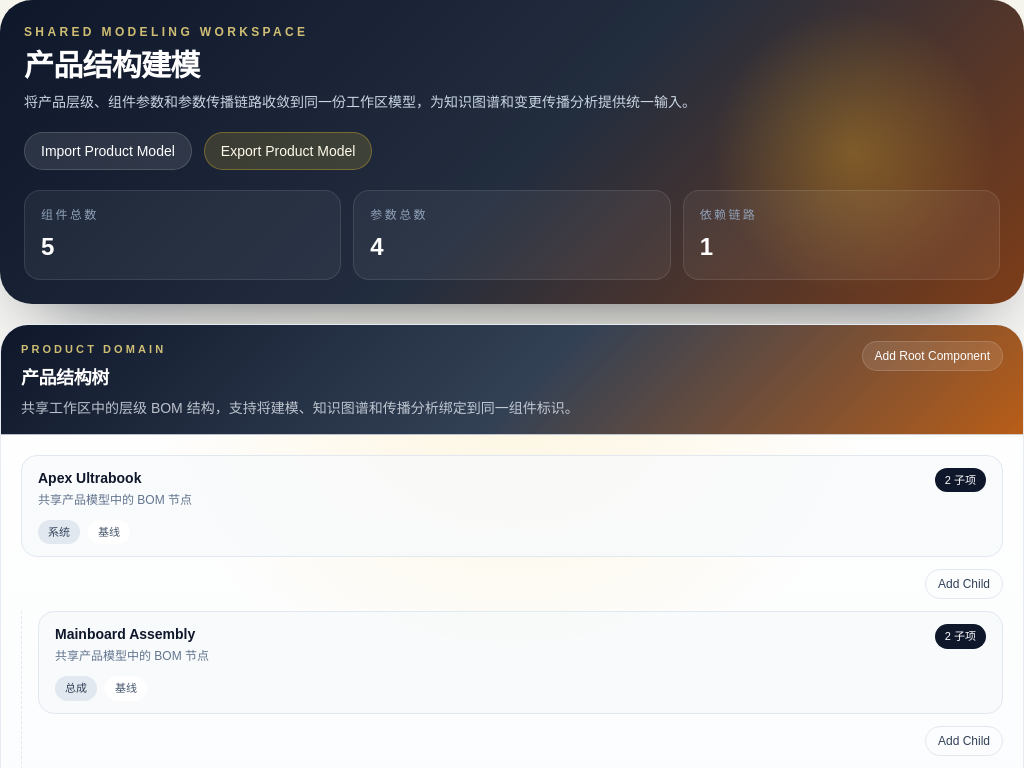
it: ProductModelingPage › creates a root component from the BOM panel
Click the button "Add Root Component" at {"x": 932, "y": 356}, box [862,341,1003,371]
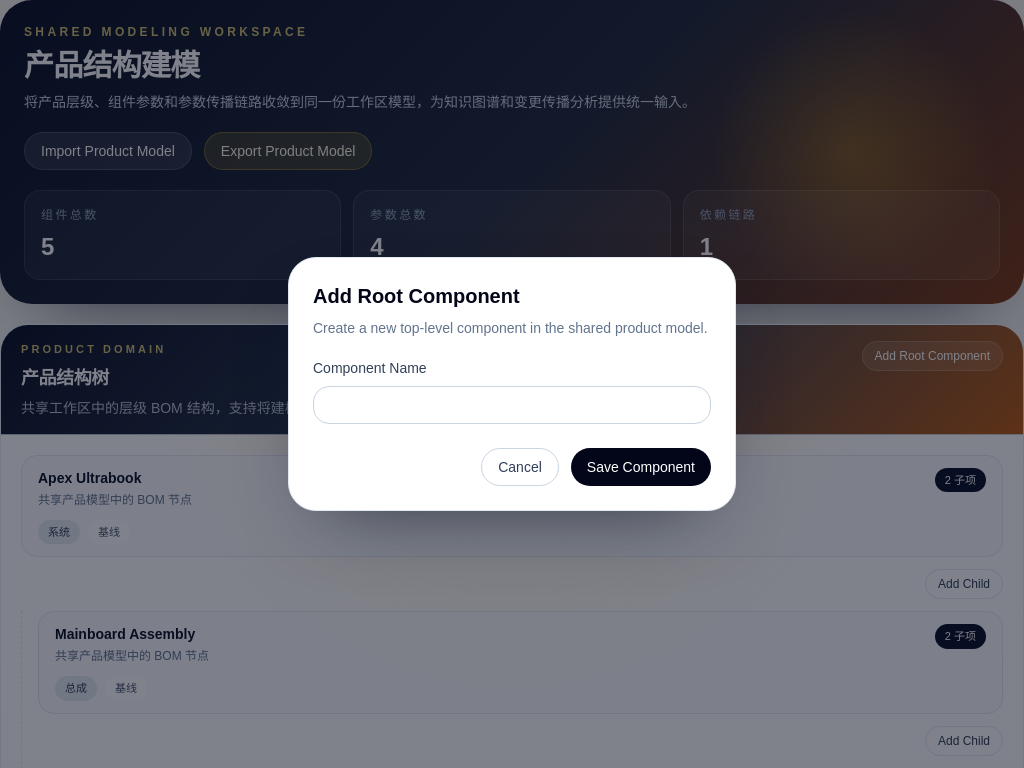
Type "Thermal Control System" into the field labelled "Component Name" at {"x": 512, "y": 405}, box [313,386,711,424]
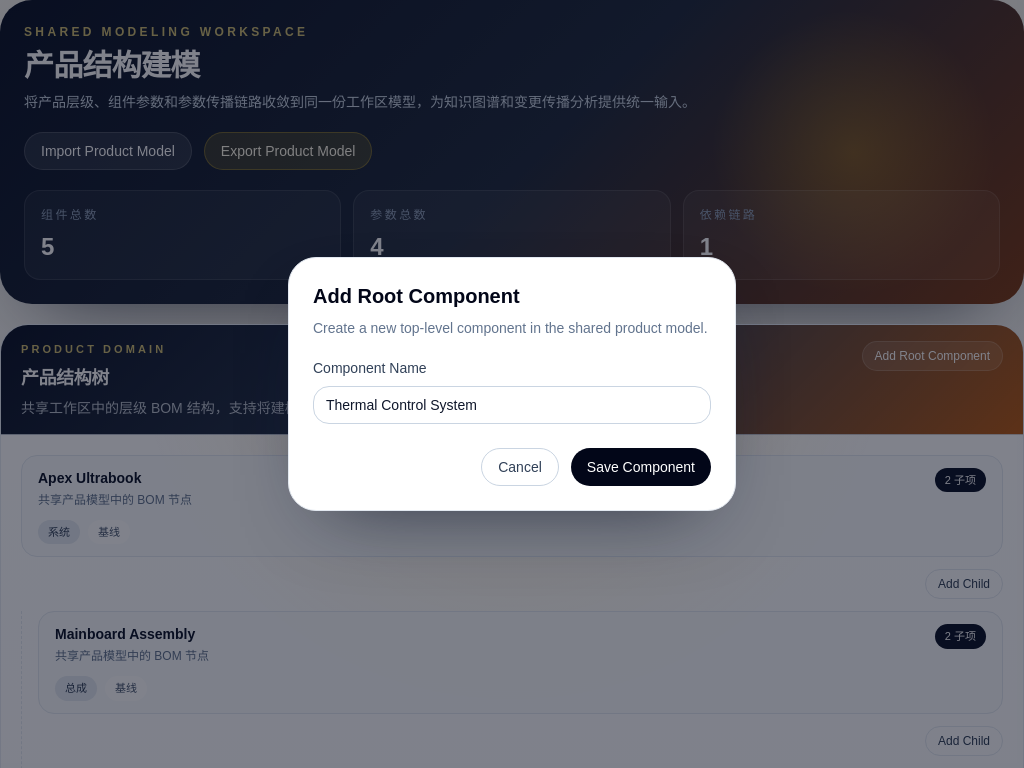
Click the button "Save Component" at {"x": 641, "y": 467}, box [571,448,711,486]
(page scrolled)
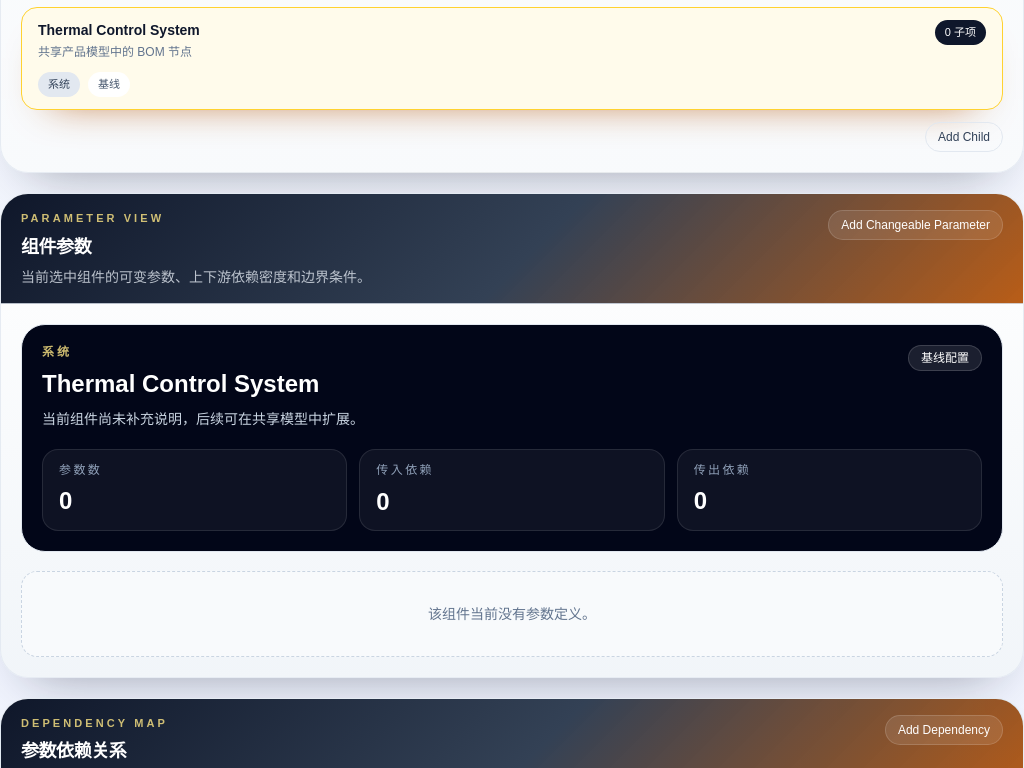
Result: the button "Thermal Control System 共享产品模型中的 BOM 节点 0 子项 系统 基线" is shown at [21,7,1003,110]
Result: the heading "Thermal Control System" is shown at [42,368,364,400]
